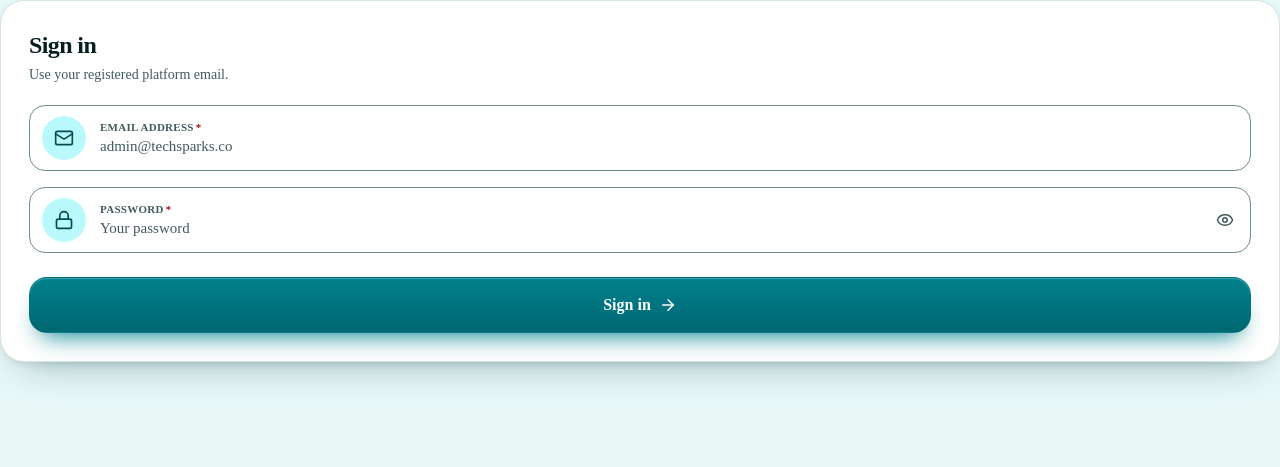
platform admin login › shows a rejection without navigating
Type "admin@example.com" into the field labelled "Email address*" at [670, 146], box 100,135 -> 1240,158
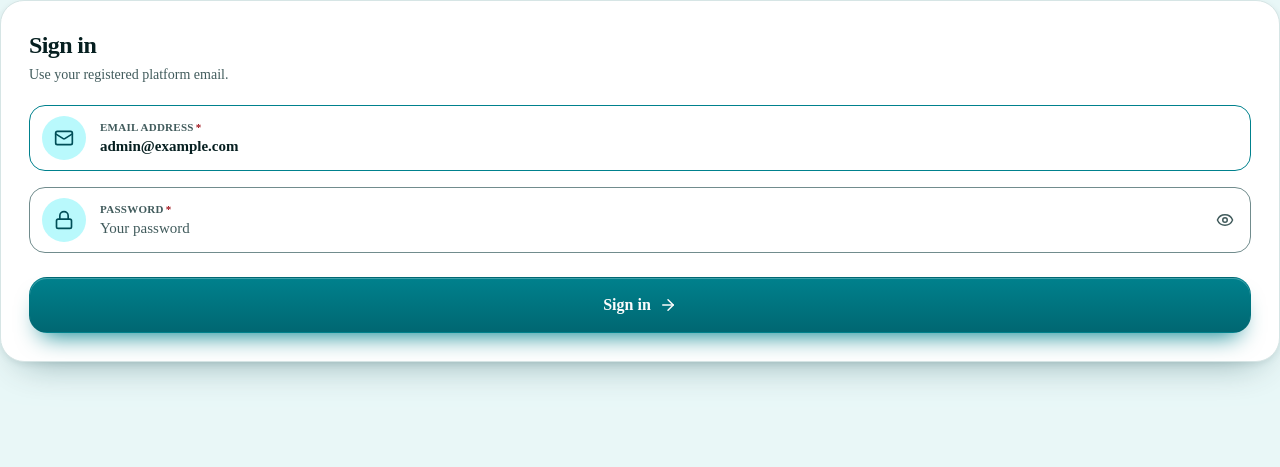
Type "wrong-password" into the password field labelled "Password*" at [648, 228], box 100,217 -> 1196,240
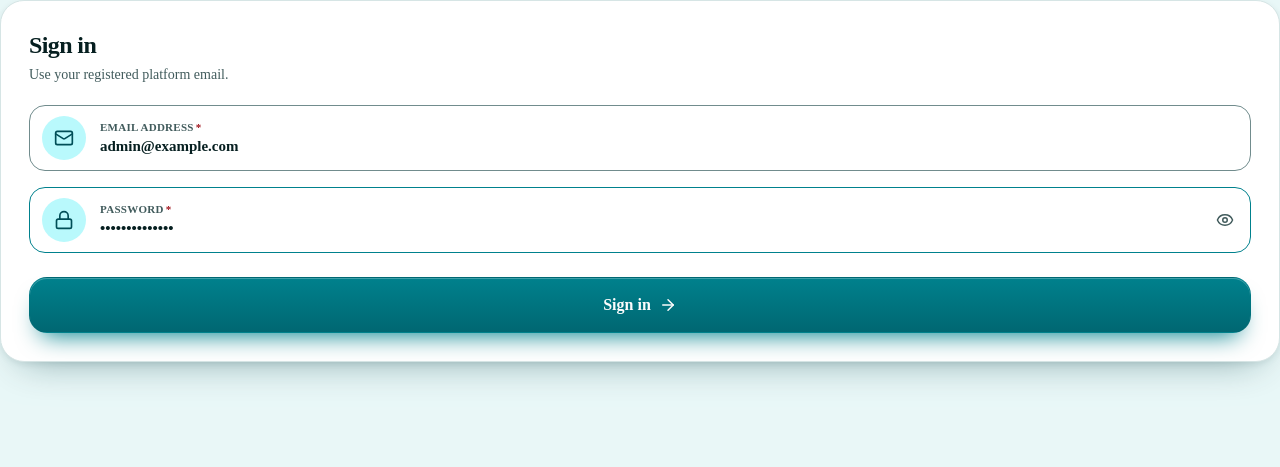
Click the button "Sign in" at [640, 305], box 29,277 -> 1251,333
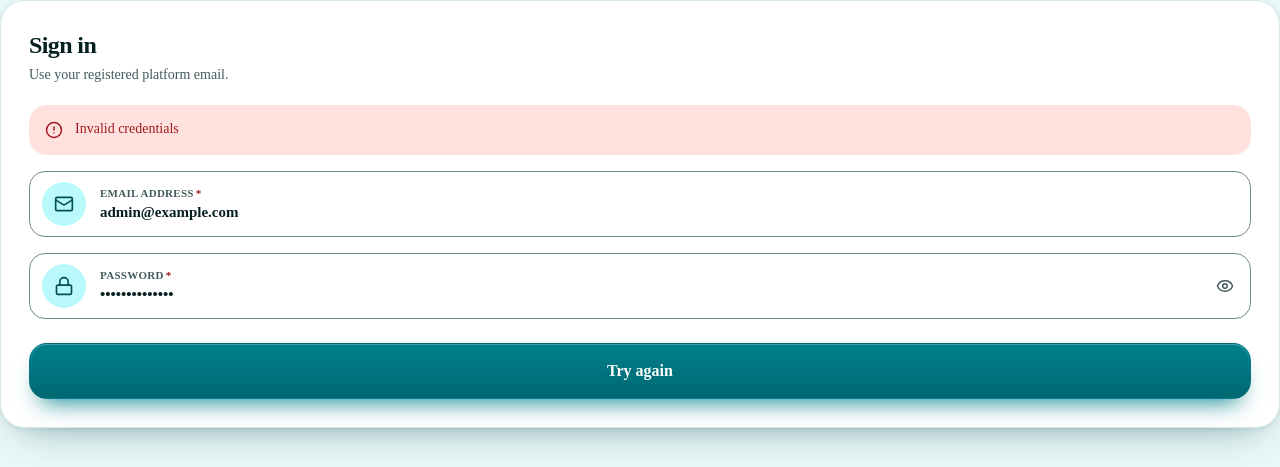
Expected: the text "Invalid credentials" is shown, 75,121 -> 179,136
